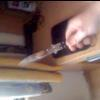melee: (19, 34, 88, 64)
